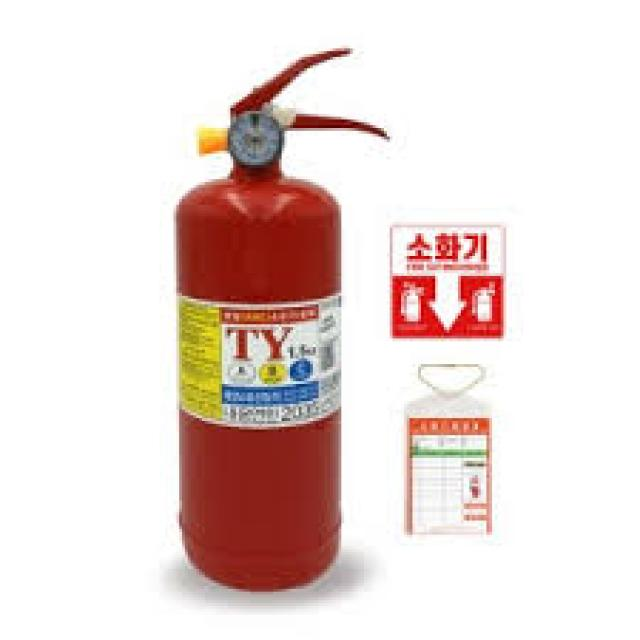pressure gauge: (230, 111, 282, 165)
